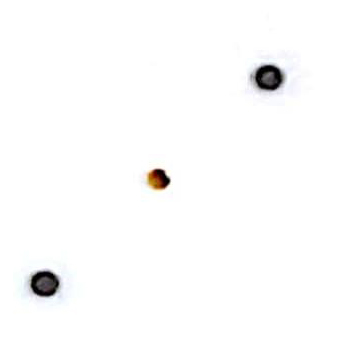cancer: (236, 40, 304, 108), (8, 251, 76, 315)
normal: (133, 156, 186, 201)
